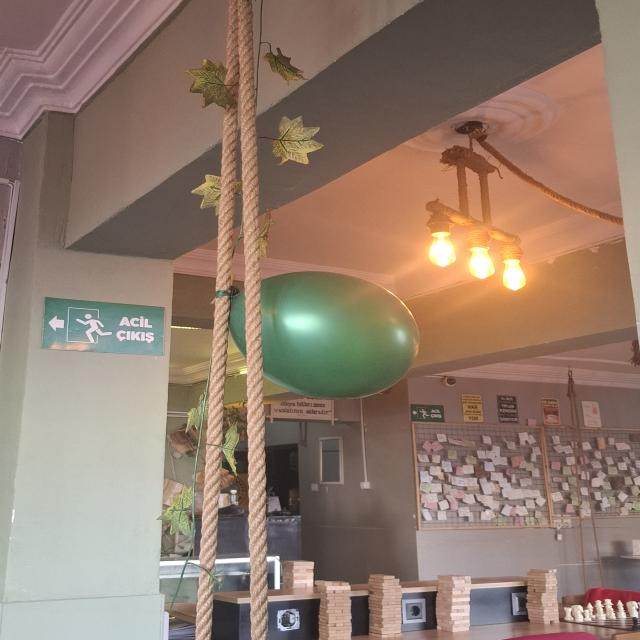balloon: (227, 272, 420, 398)
